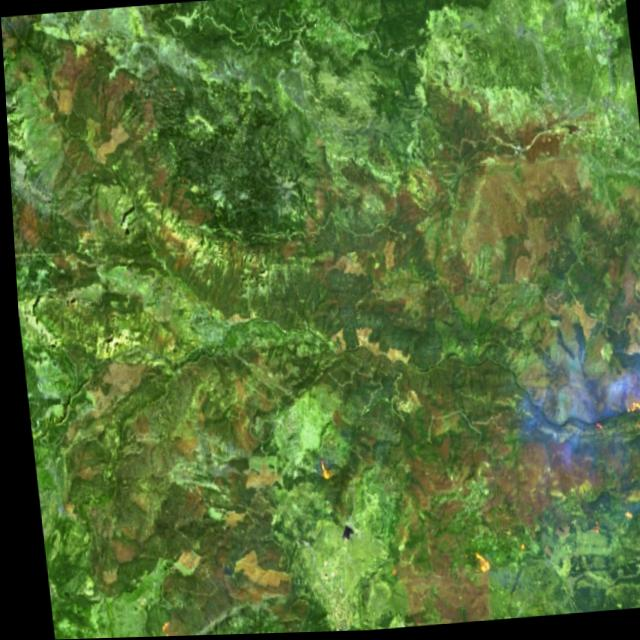fire: (602, 369, 640, 456), (451, 534, 500, 595), (299, 444, 331, 492)
